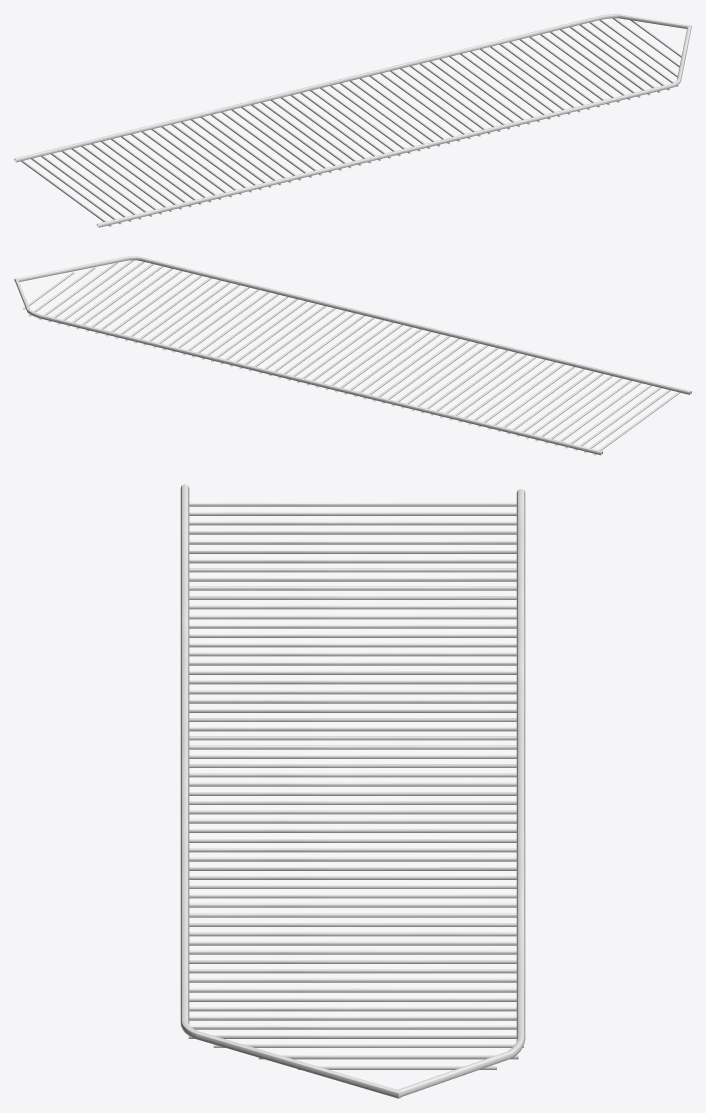
File: ShelfBasketBaseIntersection.obj
3 views of the same model, one above another, from view 1: azimuth 30°, elevation 25°; view 2: azimuth 150°, elevation 25°; view 3: azimuth 270°, elevation 25° (orthographic). The views are drawn at different scales.
Parts seen in each view (by area): view 1: ShelfBasketBaseIntersection; view 2: ShelfBasketBaseIntersection; view 3: ShelfBasketBaseIntersection.
Part boxes in pixels (box(x1,y1,x2,y2)): ShelfBasketBaseIntersection: box(14, 14, 691, 227); ShelfBasketBaseIntersection: box(14, 256, 691, 455); ShelfBasketBaseIntersection: box(180, 484, 525, 1098).
Bounding box in the file's own units: 0.678 × 0.00563 × 0.1623.
1 material, 1 textured.
